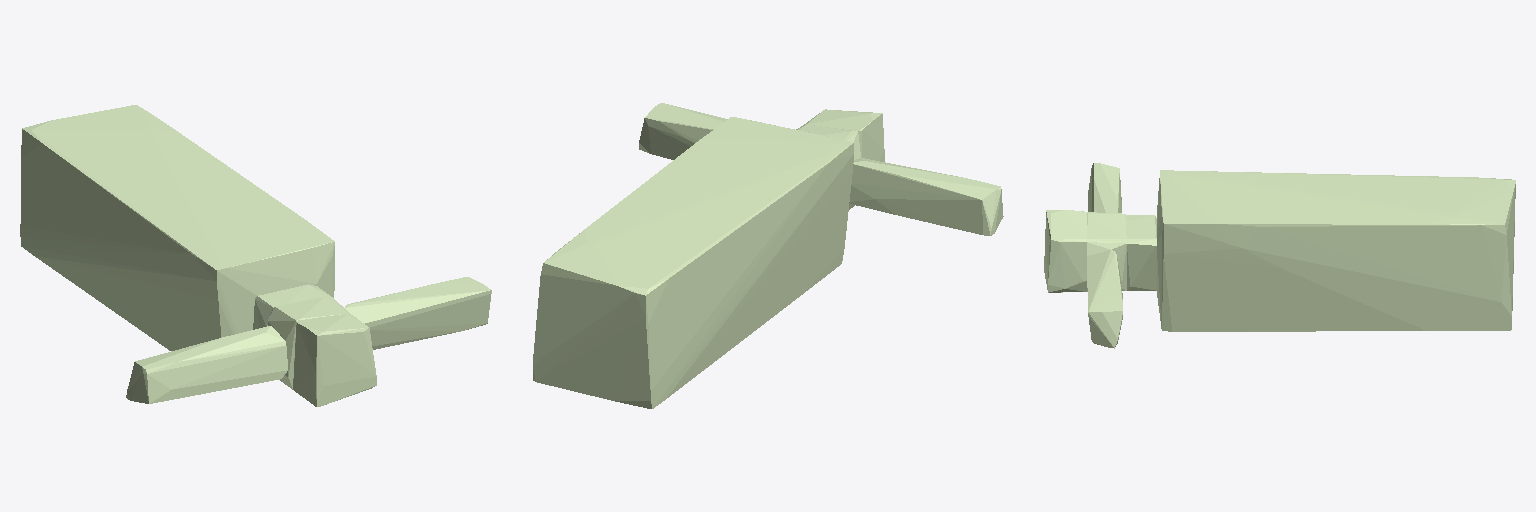
The robot description file, URDF, robot "blob426":
<robot name="blob426">
  <link name="random_obj_426">
    <contact>
      <lateral_friction value="1.0"/>
      <rolling_friction value="0.0"/>
      <inertia_scaling value="3.0"/>
      <contact_cfm value="0.0"/>
      <contact_erp value="1.0"/>
    </contact>
    <inertial>
      <origin rpy="0 0 0" xyz="0 0 0"/>
      <mass value="0.1"/>
      <inertia ixx="1" ixy="0" ixz="0" iyy="1" iyz="0" izz="0"/>
    </inertial>
    <visual>
      <origin rpy="0 0 0" xyz="0 0 0"/>
      <geometry>
        <mesh filename="426.obj" scale="0.015 0.015 0.015"/>
      </geometry>
      <material name="blockmat">
        <color rgba="0.89 0.96 0.80 1"/>
      </material>
    </visual>
    <collision>
      <origin rpy="0 0 0" xyz="0 0 0"/>
      <geometry>
        <mesh filename="426.obj" scale="0.015 0.015 0.015"/>
      </geometry>
    </collision>
  </link>
</robot>

--- What the picture shows (computed from the rendered views, not written in the file) ---
3 views of the same robot in one strip: view 1: azimuth 30°, elevation 25°; view 2: azimuth 150°, elevation 25°; view 3: azimuth 270°, elevation 25° (orthographic).
Robot: blob426 — 1 links, 0 joints (none); root link random_obj_426; default pose: all joints at 0.
Links seen in each view (by area): view 1: random_obj_426; view 2: random_obj_426; view 3: random_obj_426.
Link boxes in pixels (left/top/right/bottom): random_obj_426: left=20, top=105, right=491, bottom=406; random_obj_426: left=533, top=103, right=1003, bottom=408; random_obj_426: left=1044, top=163, right=1515, bottom=348.
Size in the robot's own frame: 0.0935 by 0.1222 by 0.0318 metres.
Meshes: 1 distinct files referenced, 1 mesh visuals loaded (1 OBJ).